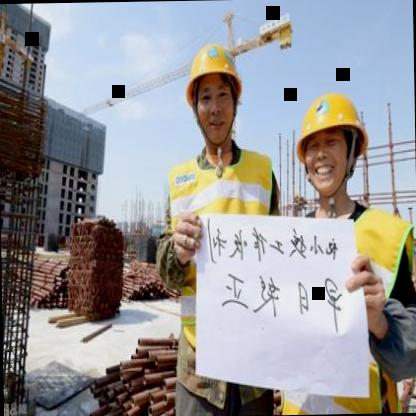helmet: (294, 88, 374, 200), (184, 40, 248, 156)
